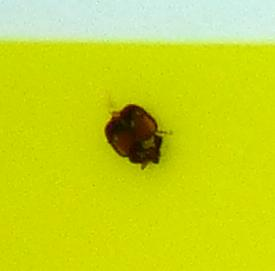Coleoptera: (100, 100, 175, 171)
